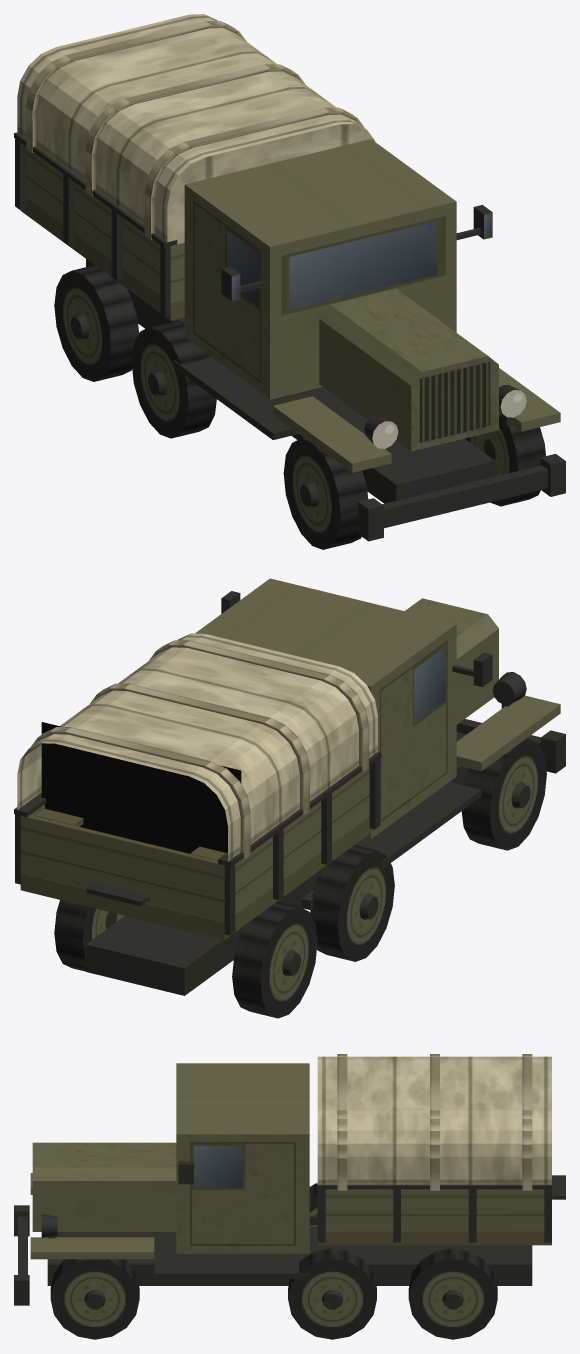
The model's file is landTransport.glb.
3 views of the same model, one above another, from view 1: azimuth 30°, elevation 25°; view 2: azimuth 150°, elevation 25°; view 3: azimuth 270°, elevation 25° (orthographic). The views are drawn at different scales.
Visible parts, largest first — view 1: body, tarp, roue_right_3, roue_right_2, roue_right_1, roue_left_1; view 2: body, tarp, fond_sombre, tailgate, roue_right_3, roue_right_2, roue_right_1, roue_left_3; view 3: body, tarp, roue_left_3, roue_left_2, roue_left_1.
Part boxes in pixels (bbox=[...]): body: bbox=[14, 132, 565, 541]; tarp: bbox=[17, 14, 375, 244]; roue_right_3: bbox=[54, 265, 138, 381]; roue_right_2: bbox=[131, 320, 216, 438]; roue_right_1: bbox=[283, 438, 368, 549]; roue_left_1: bbox=[465, 416, 545, 506]; body: bbox=[14, 578, 565, 995]; tarp: bbox=[17, 633, 377, 861]; fond_sombre: bbox=[41, 722, 241, 853]; tailgate: bbox=[20, 815, 224, 921]; roue_right_3: bbox=[232, 901, 317, 1018]; roue_right_2: bbox=[310, 845, 394, 961]; roue_right_1: bbox=[461, 738, 546, 850]; roue_left_3: bbox=[54, 900, 124, 971]; body: bbox=[14, 1063, 551, 1305]; tarp: bbox=[317, 1054, 551, 1190]; roue_left_3: bbox=[408, 1248, 497, 1339]; roue_left_2: bbox=[288, 1248, 376, 1339]; roue_left_1: bbox=[50, 1259, 139, 1339].
Bounding box in the file's own units: 2.38 × 2.42 × 5.58.
8 materials, 7 textured.
